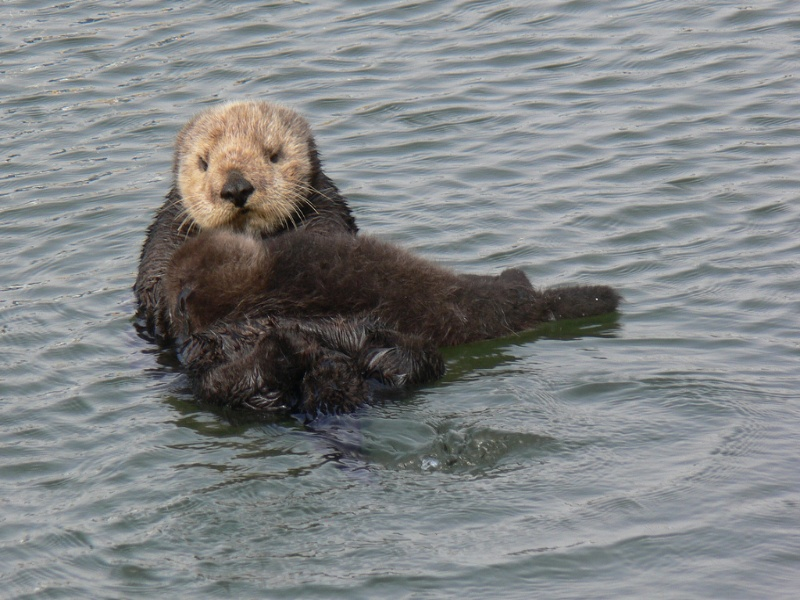minkish: (176, 113, 319, 227)
